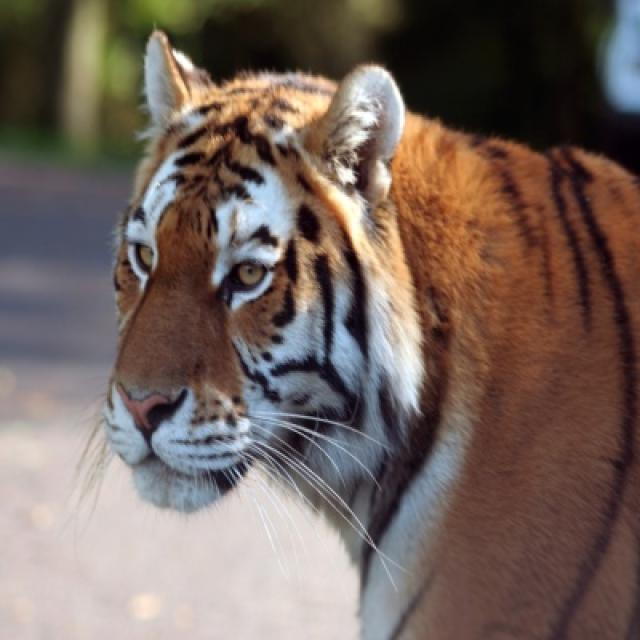Tiger: (107, 27, 638, 633)
